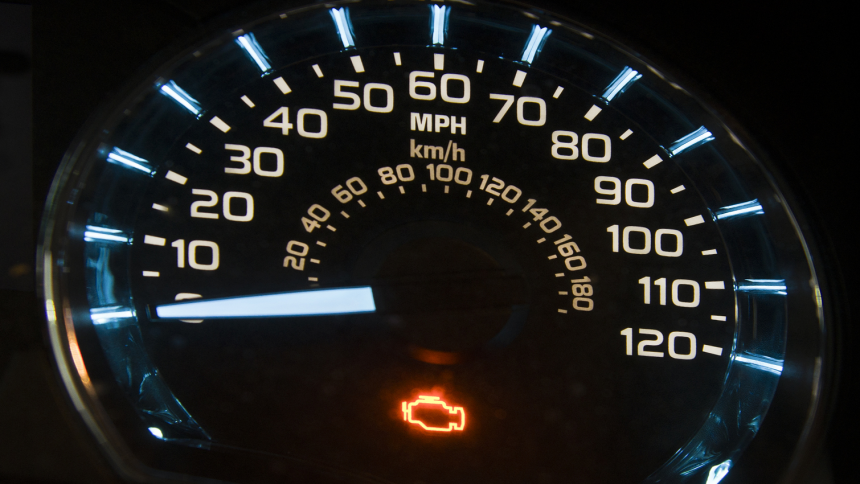Engine_emissions: (398, 385, 469, 441)
